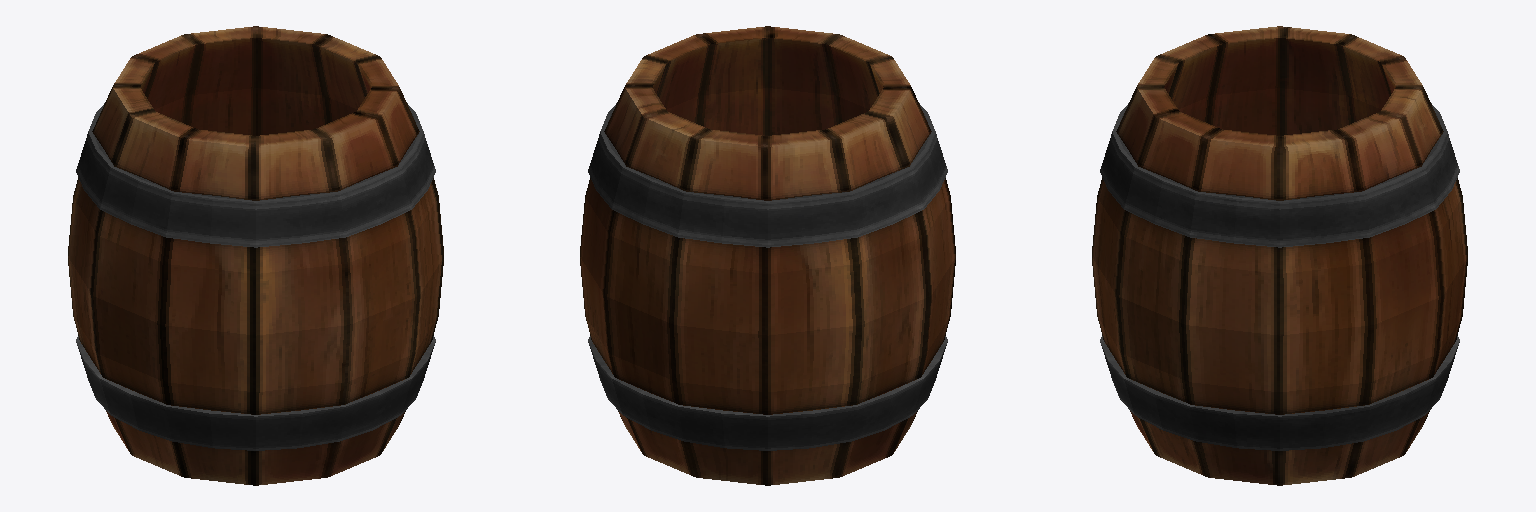
3 renders of one model, left to right at view 1: azimuth 30°, elevation 25°; view 2: azimuth 150°, elevation 25°; view 3: azimuth 270°, elevation 25°, orthographic.
Parts seen in each view (by area): view 1: Barrel_m_Mesh; view 2: Barrel_m_Mesh; view 3: Barrel_m_Mesh.
Boxes of the visible parts, x1,y1,x2,y2 form: Barrel_m_Mesh: [68, 26, 443, 485]; Barrel_m_Mesh: [580, 26, 955, 485]; Barrel_m_Mesh: [1092, 26, 1467, 485].
Size of the model in its own units: 1.01 by 1 by 1.01.
1 materials, 1 textured.